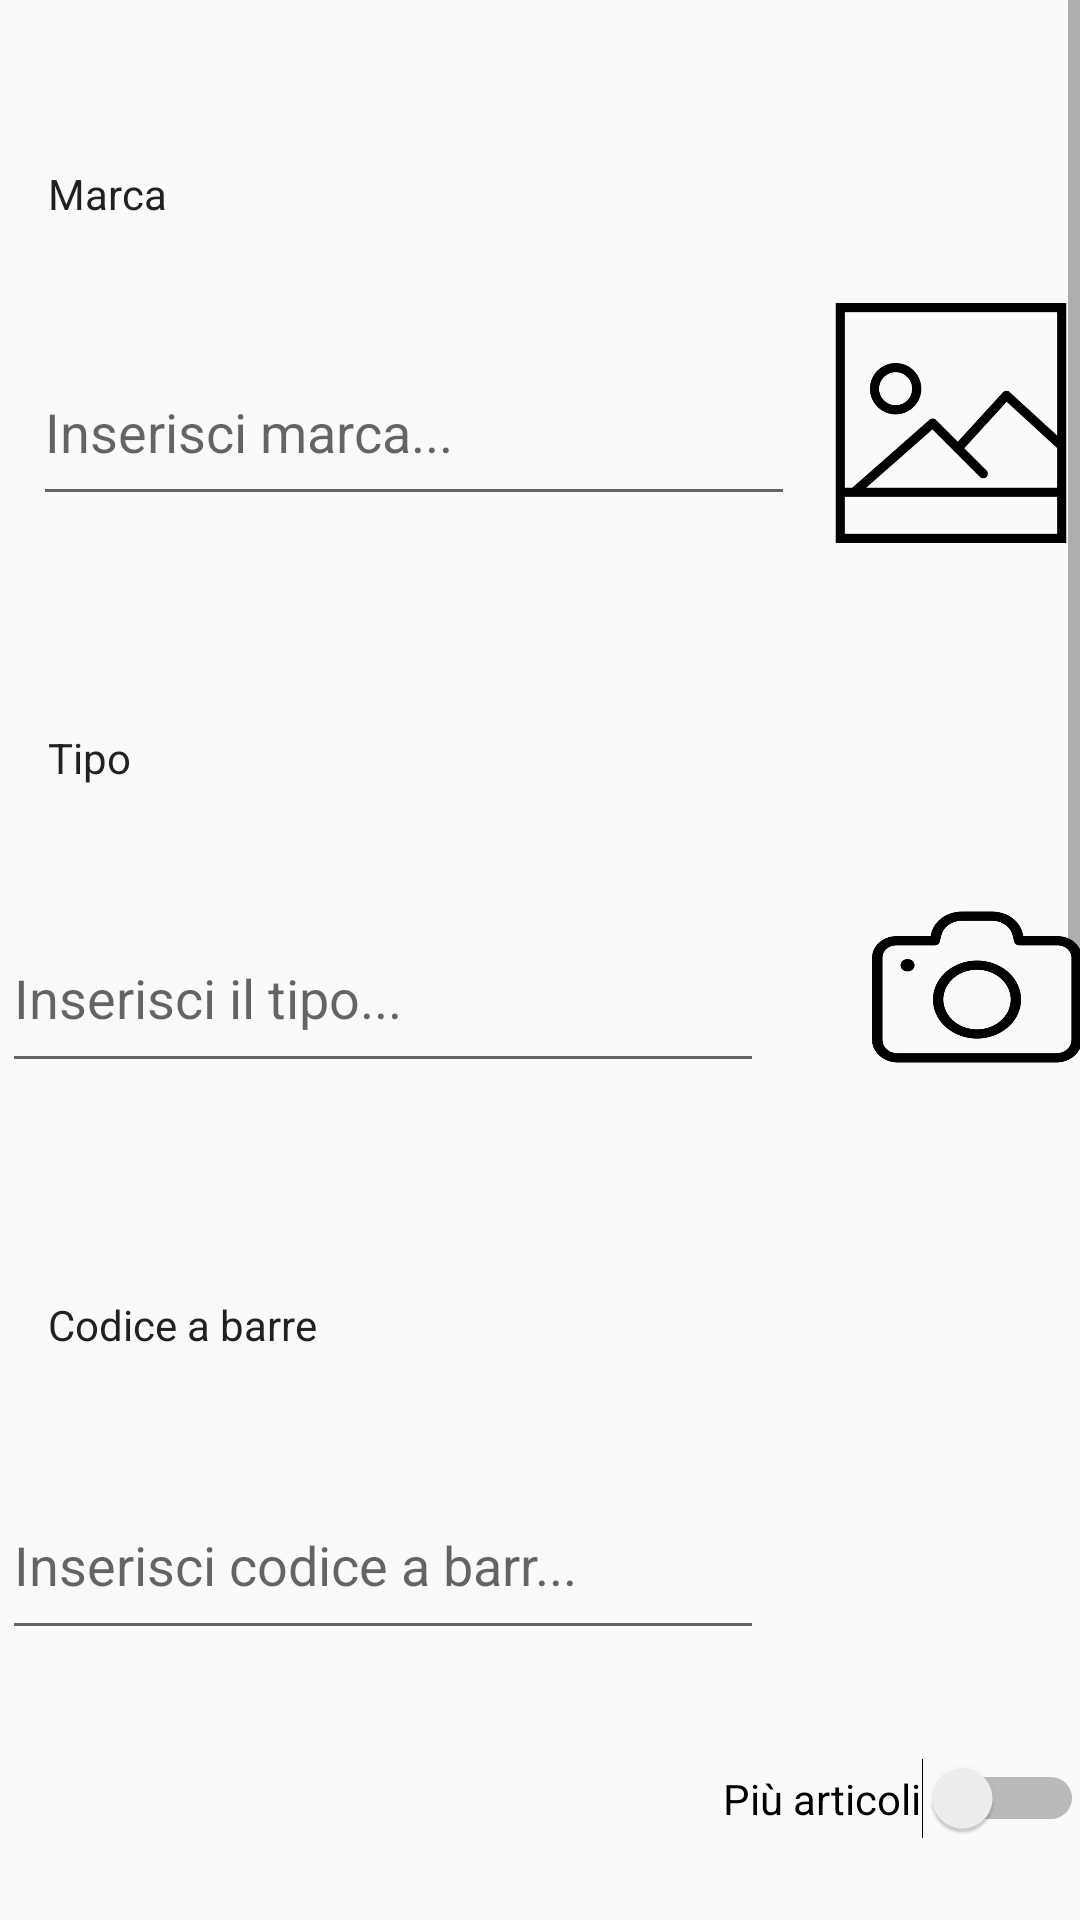

Screen size 1080 x 1920. Icon name, then its center in pixels as (x=x, y=y):
camera: (x=976, y=978)
